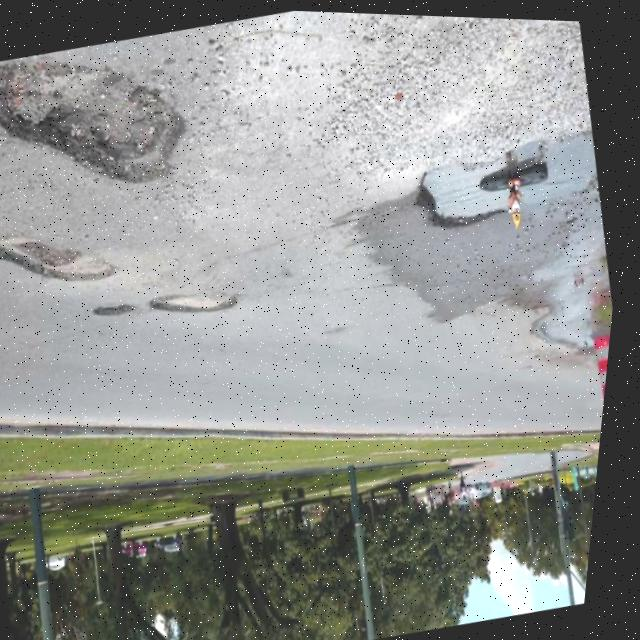Pothole: (0, 33, 204, 221), (407, 122, 610, 239), (0, 210, 123, 303), (152, 273, 245, 325), (97, 297, 141, 319)
